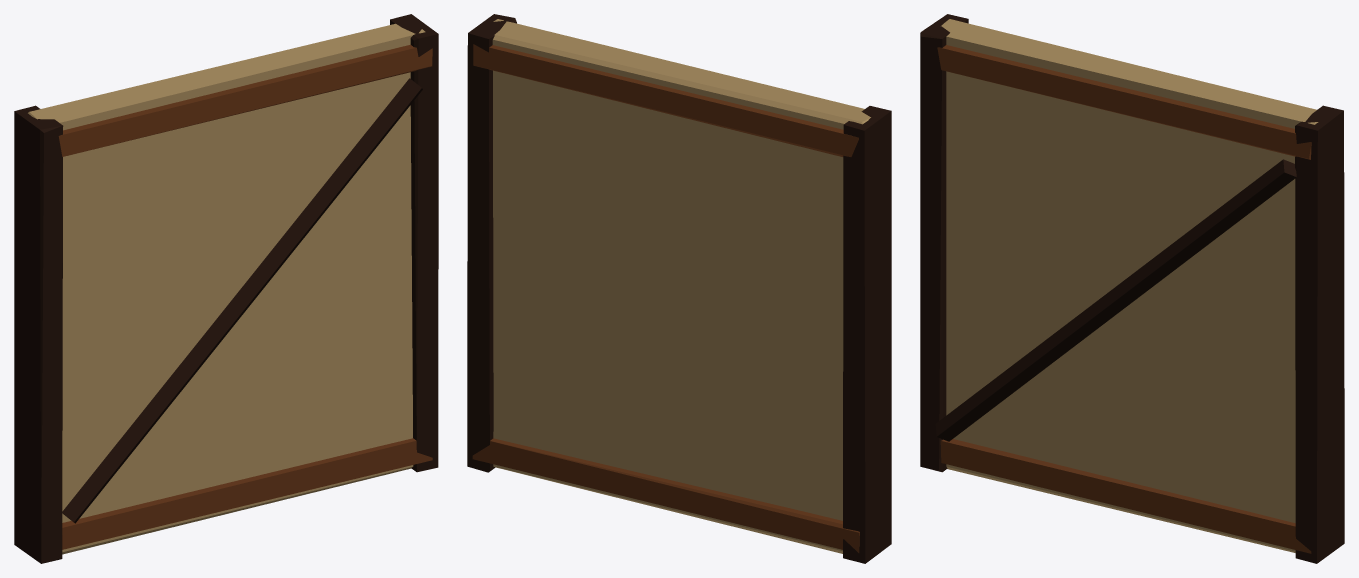
Rendered from Parede_enxaimel_LOD1.fbx.
The picture shows the model from 3 angles, left to right: view 1: azimuth 30°, elevation 25°; view 2: azimuth 150°, elevation 25°; view 3: azimuth 330°, elevation 25°; orthographic projection.
Parts seen in each view (by area): view 1: Parede_enxaimel_LOD1; view 2: Parede_enxaimel_LOD1; view 3: Parede_enxaimel_LOD1.
Boxes of the visible parts, <box> form: Parede_enxaimel_LOD1: <box>14,14,438,563</box>; Parede_enxaimel_LOD1: <box>467,14,891,563</box>; Parede_enxaimel_LOD1: <box>920,14,1344,563</box>.
Size of the model in its own units: 286 by 300 by 45.
1 material, 1 textured.
